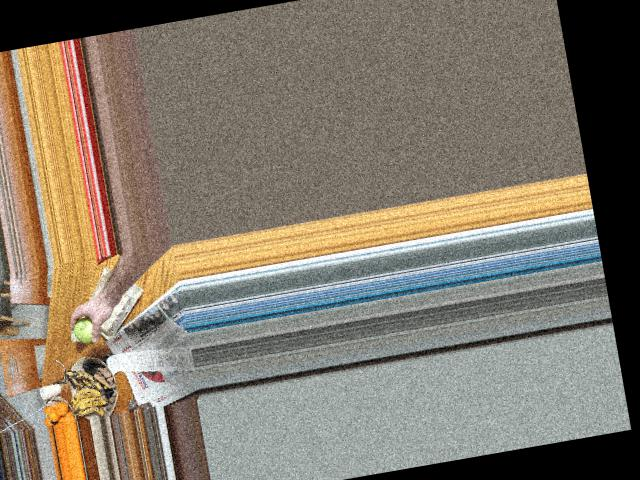apple: (69, 309, 99, 344)
